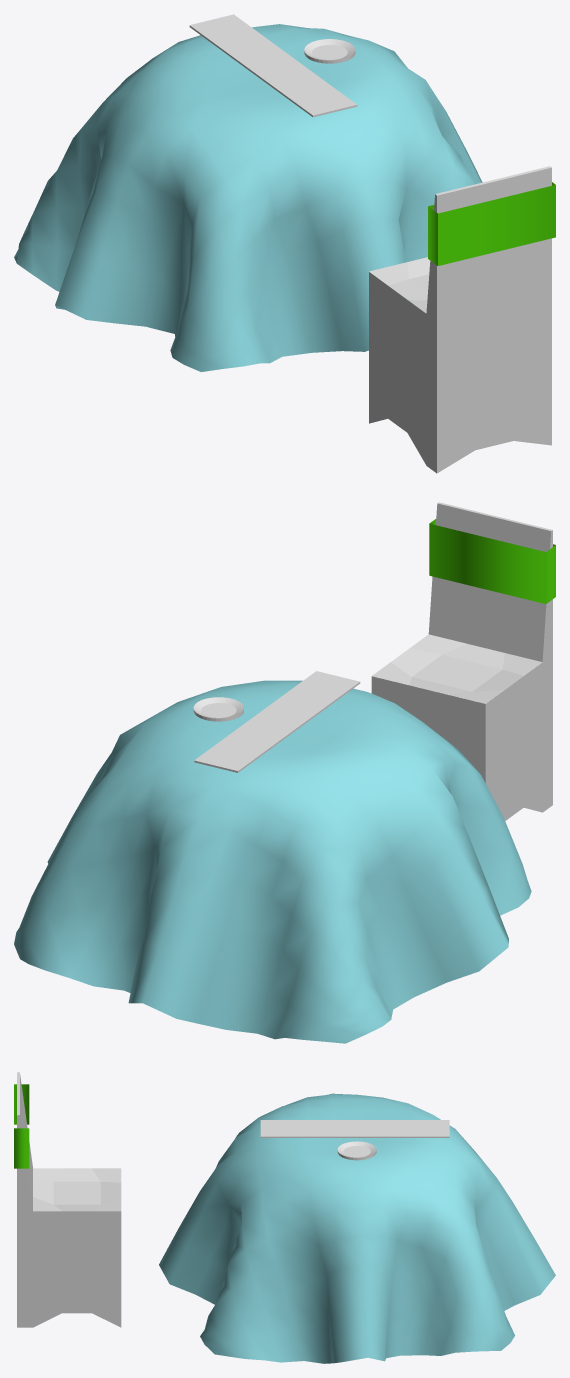
The model's file is PFScene1.gltf.
The picture shows the model from 3 angles, top to bottom: view 1: azimuth 30°, elevation 25°; view 2: azimuth 150°, elevation 25°; view 3: azimuth 270°, elevation 25°; orthographic projection. The views are drawn at different scales.
Parts seen in each view (by area): view 1: TableCloth, Chair.001, ChairRunner, TableRunner, Plate; view 2: TableCloth, Chair.001, ChairRunner, TableRunner, Plate; view 3: TableCloth, Chair.001, TableRunner, ChairRunner, Plate.
Boxes of the visible parts, x1,y1,x2,y2 form: TableCloth: (14,24,482,371); Chair.001: (369,166,551,473); ChairRunner: (428,182,555,265); TableRunner: (189,14,357,117); Plate: (304,39,355,63); TableCloth: (14,680,531,1043); Chair.001: (371,502,552,820); ChairRunner: (429,519,555,603); TableRunner: (194,671,360,772); Plate: (193,697,243,721); TableCloth: (159,1093,555,1363); Chair.001: (17,1072,121,1327); TableRunner: (260,1120,449,1137); ChairRunner: (14,1084,29,1168); Plate: (337,1141,376,1160).
Bounding box in the file's own units: 152 × 91.7 × 208.
